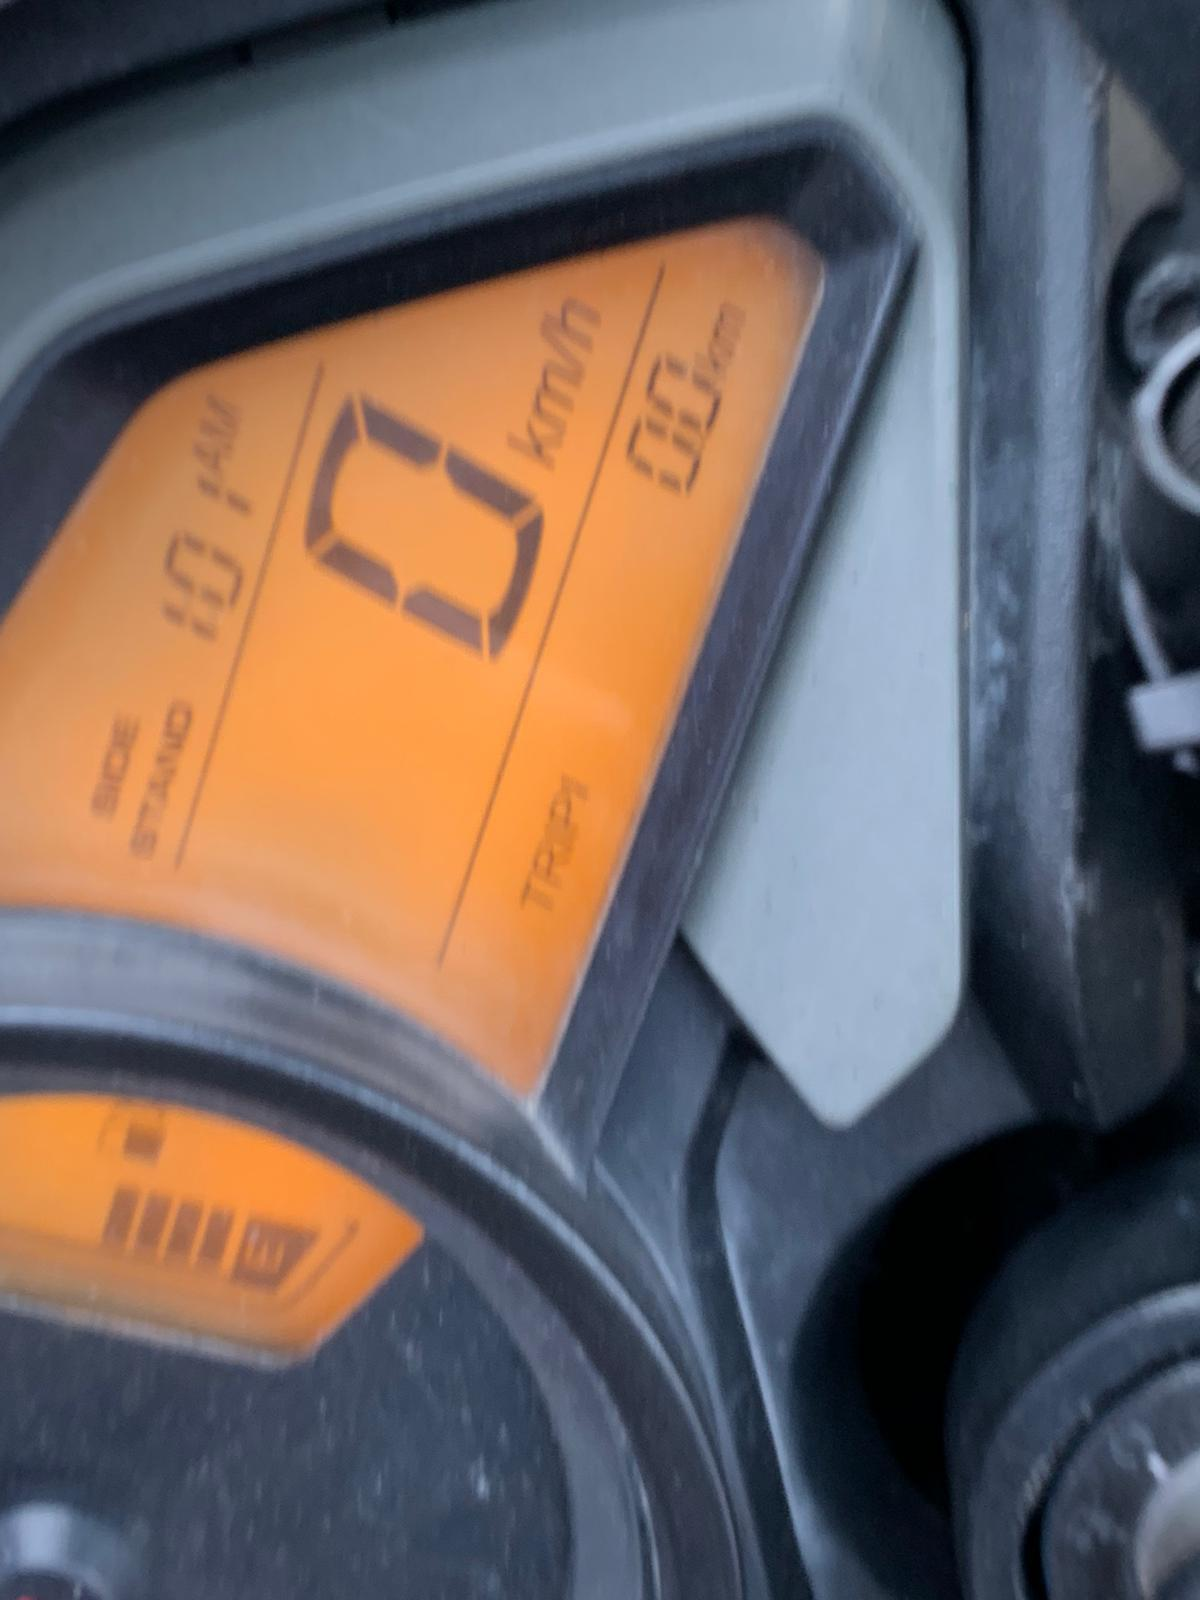,: (693, 436, 710, 449)
0: (297, 393, 547, 661), (645, 353, 722, 433), (166, 532, 246, 609), (624, 418, 698, 493)
1: (187, 476, 258, 518), (160, 603, 226, 648), (557, 775, 590, 801)
X: (533, 362, 579, 431), (545, 294, 600, 350), (505, 420, 562, 471), (537, 323, 582, 375), (202, 396, 242, 443), (528, 840, 565, 886), (516, 873, 551, 912), (547, 789, 576, 833), (190, 442, 232, 472), (710, 302, 741, 341), (700, 343, 734, 375), (107, 716, 142, 747), (163, 699, 192, 737), (105, 747, 132, 782), (158, 740, 183, 775), (129, 826, 153, 859), (147, 779, 176, 803), (89, 794, 120, 816), (546, 821, 572, 847), (140, 803, 166, 826), (96, 782, 122, 797)
odometer: (3, 137, 850, 1123)
